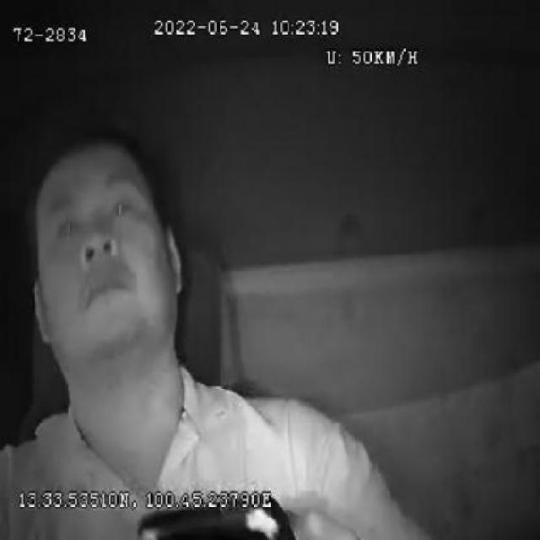phone: (138, 507, 295, 540)
